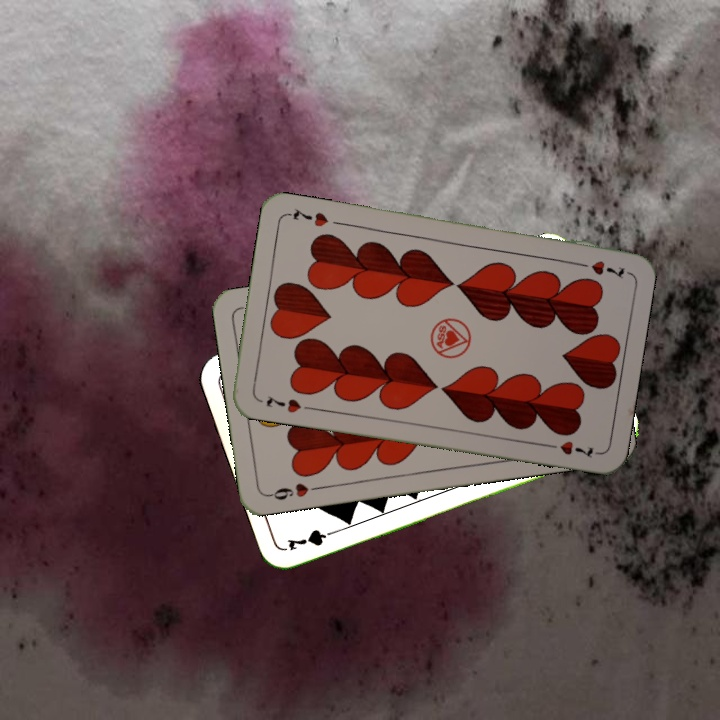G7: (283, 525, 342, 554)
H7: (571, 256, 627, 281), (262, 391, 304, 416)
H9: (264, 479, 323, 503)
